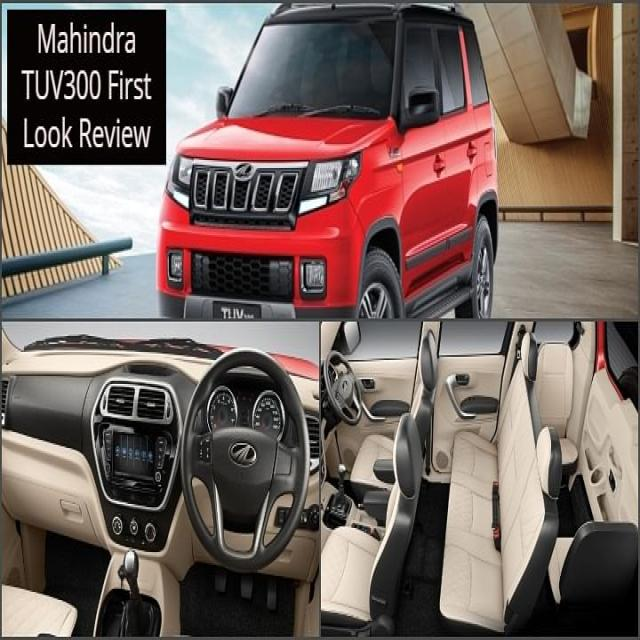light_vehicle: (158, 10, 498, 320)
